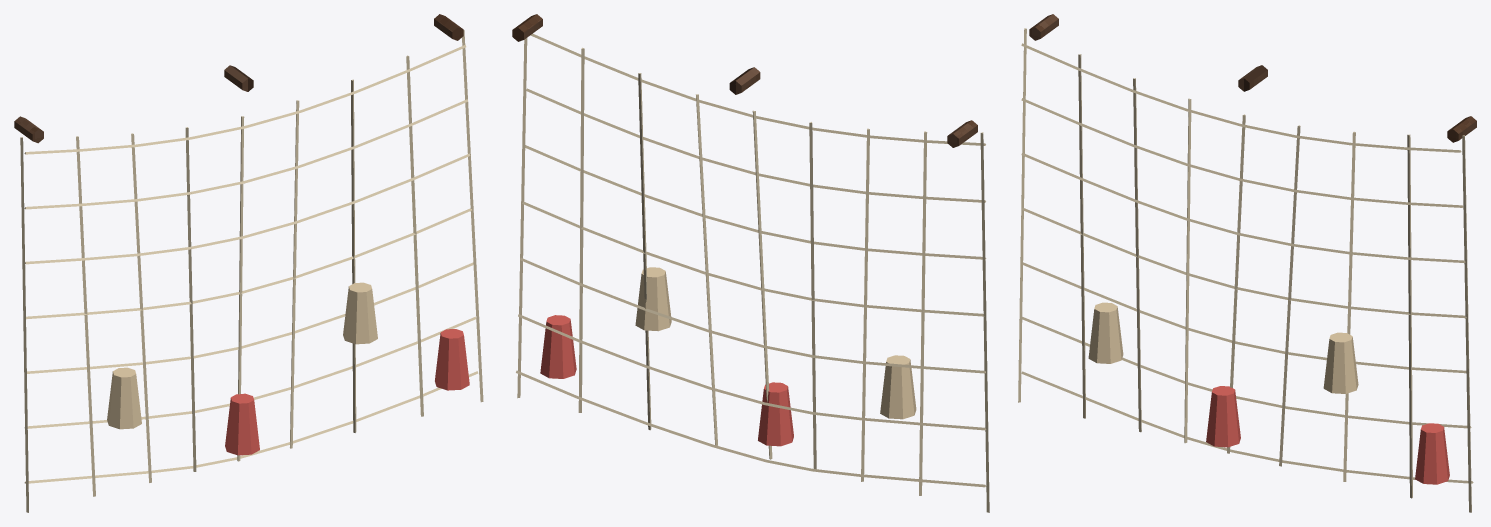
File: fishing_net.glb
3 renders of one model, left to right at view 1: azimuth 30°, elevation 25°; view 2: azimuth 150°, elevation 25°; view 3: azimuth 330°, elevation 25°, orthographic. The views are drawn at different scales.
Parts seen in each view (by area): view 1: body; view 2: body; view 3: body.
Part boxes in pixels (x1,y1,x2,y2): body: (14, 14, 483, 512); body: (512, 14, 989, 512); body: (1018, 14, 1476, 512).
Bounding box in the file's own units: 1.74 × 1.38 × 0.23.
4 materials, 1 textured.
